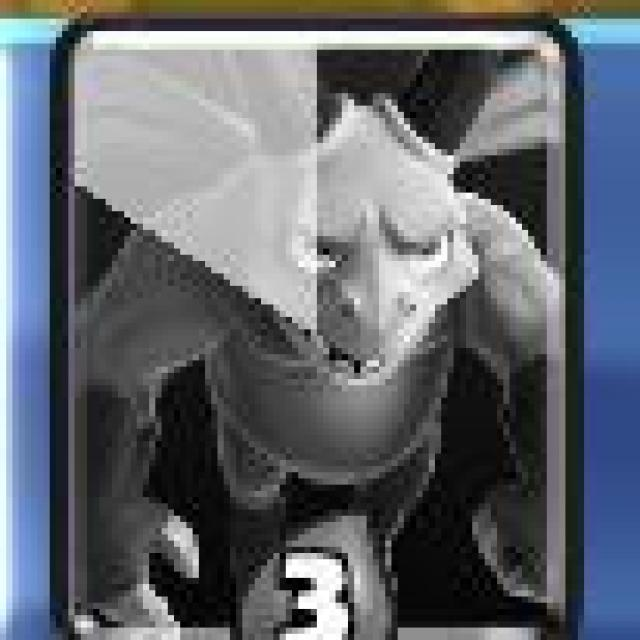Minions: (48, 23, 578, 640)
